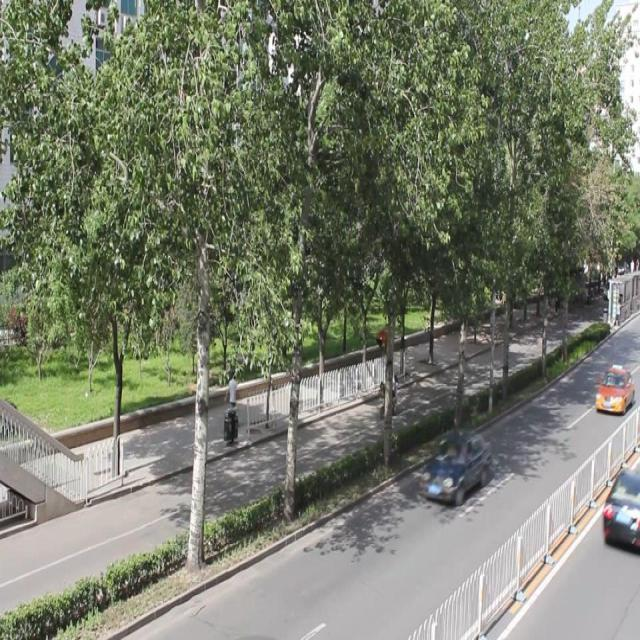car: (420, 431, 489, 504), (592, 365, 640, 414)
